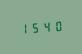five: (29, 20, 39, 34)
four: (40, 20, 50, 33)
one: (18, 21, 28, 34)
zero: (51, 19, 61, 32)
